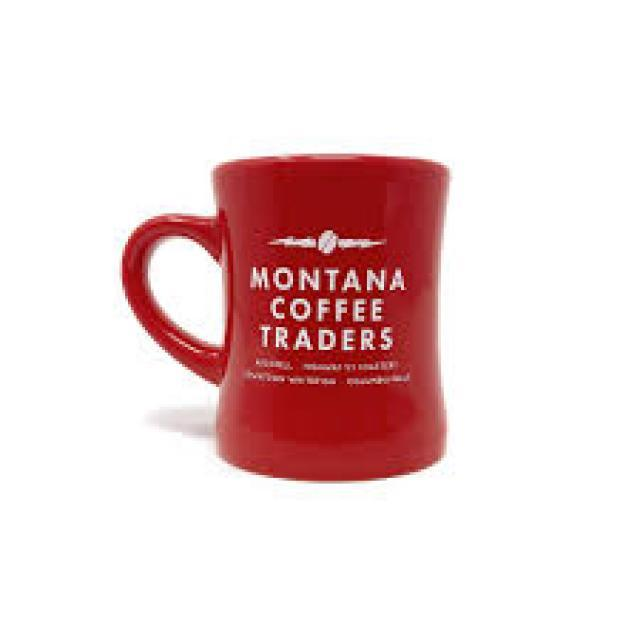taza: (119, 148, 453, 486)
